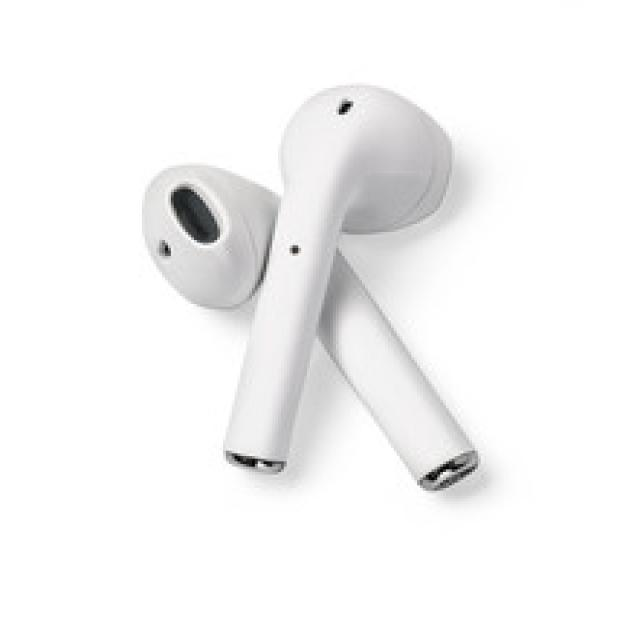airpods: (136, 77, 490, 498)
